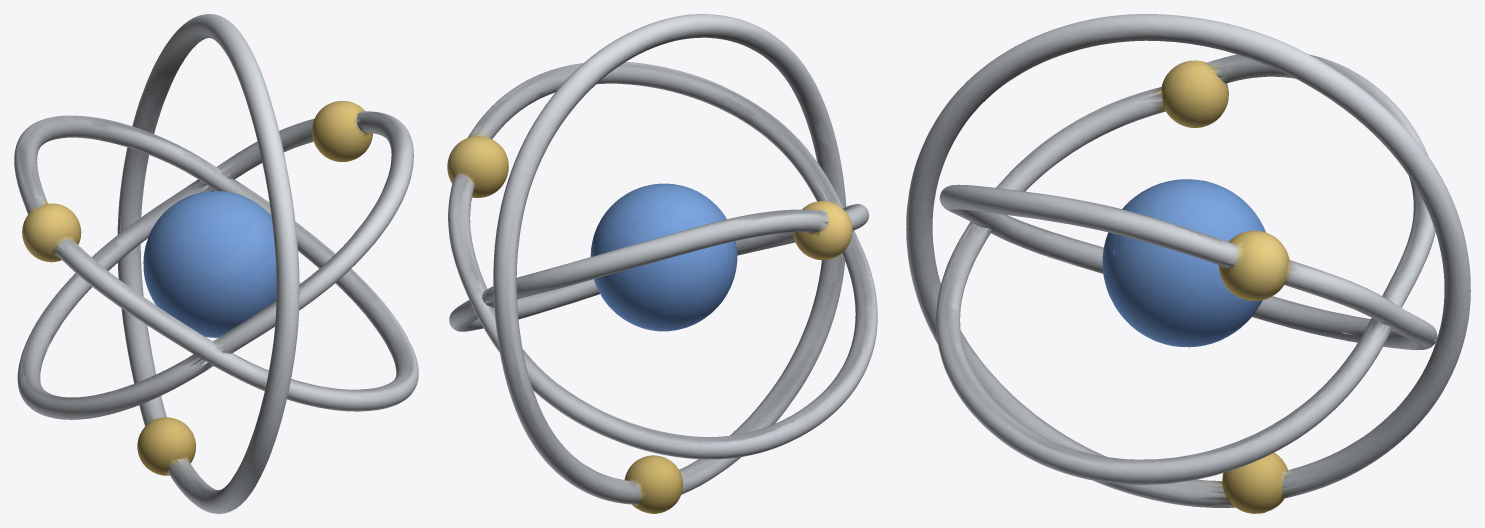
File: chem.glb
3 renders of one model, left to right at view 1: azimuth 30°, elevation 25°; view 2: azimuth 150°, elevation 25°; view 3: azimuth 270°, elevation 25°, orthographic. The views are drawn at different scales.
Visible parts, largest first — view 1: Mesh_0; view 2: Mesh_0; view 3: Mesh_0.
Part boxes in pixels (bbox=[...]): Mesh_0: bbox=[14, 14, 418, 513]; Mesh_0: bbox=[447, 14, 877, 513]; Mesh_0: bbox=[906, 14, 1470, 513].
Size of the model in its own units: 0.9972 by 1.16 by 1.15.
1 material, 1 textured.
